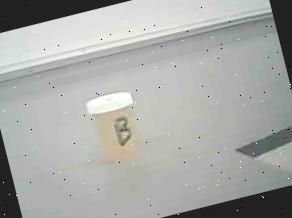Bottle B: (78, 80, 156, 179)
